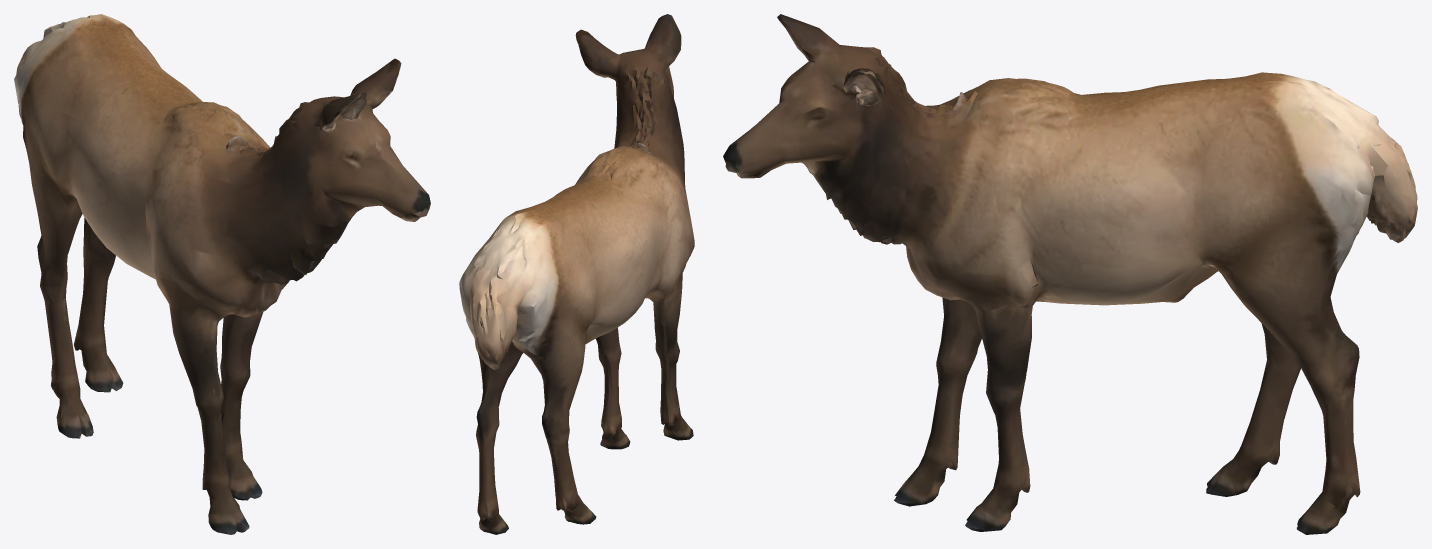
The model's file is elk-cow.glb.
3 views of the same model, side by side, from view 1: azimuth 30°, elevation 25°; view 2: azimuth 150°, elevation 25°; view 3: azimuth 270°, elevation 25° (orthographic). The views are drawn at different scales.
Parts seen in each view (by area): view 1: elk-cow; view 2: elk-cow; view 3: elk-cow.
Boxes of the visible parts, bbox=[...] form: elk-cow: bbox=[14, 14, 430, 534]; elk-cow: bbox=[459, 14, 694, 534]; elk-cow: bbox=[723, 14, 1417, 534].
Size of the model in its own units: 1.2 by 2.8 by 3.37.
1 material, 1 textured.
